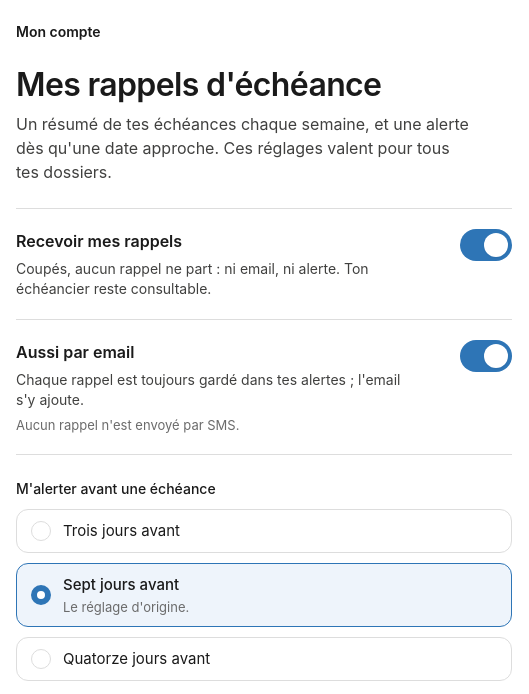
Scenario: Préférences de rappel › enregistre, confirme, et envoie ce qui est affiché
This screenshot has width=529, height=694.
Click the radio button labelled "Quatorze jours avant" at (137, 658), box [16, 637, 512, 681]
(page scrolled)
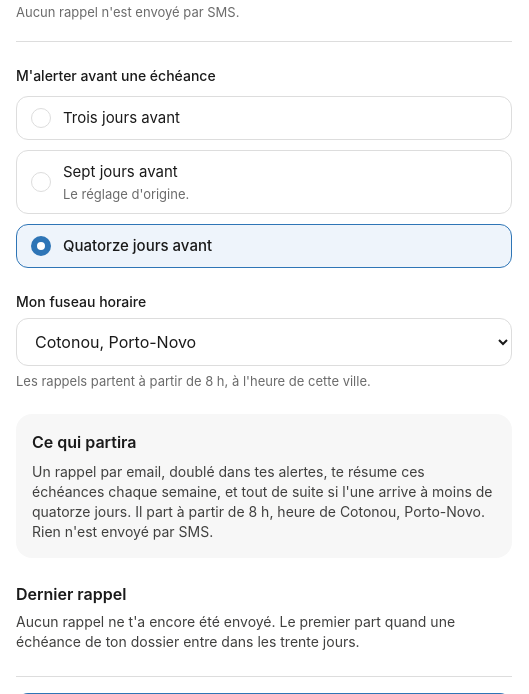
Select "Montréal, Toronto" in the dropdown labelled "Mon fuseau horaire" at (264, 342), box [16, 318, 512, 366]
(page scrolled)
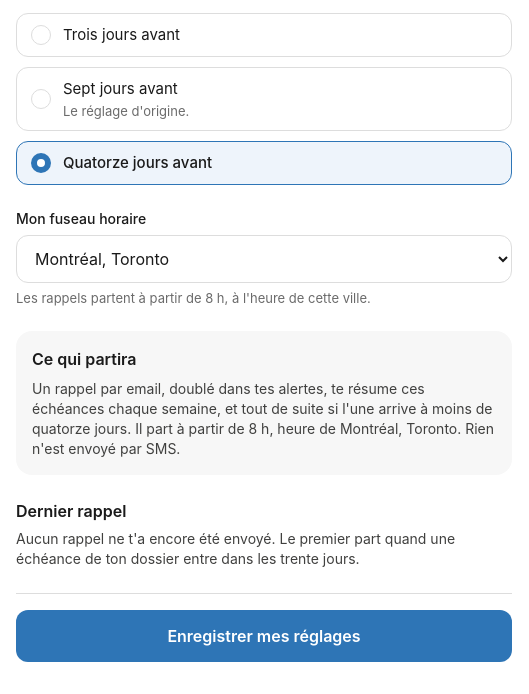
Click the button "Enregistrer mes réglages" at (264, 636), box [16, 610, 512, 662]
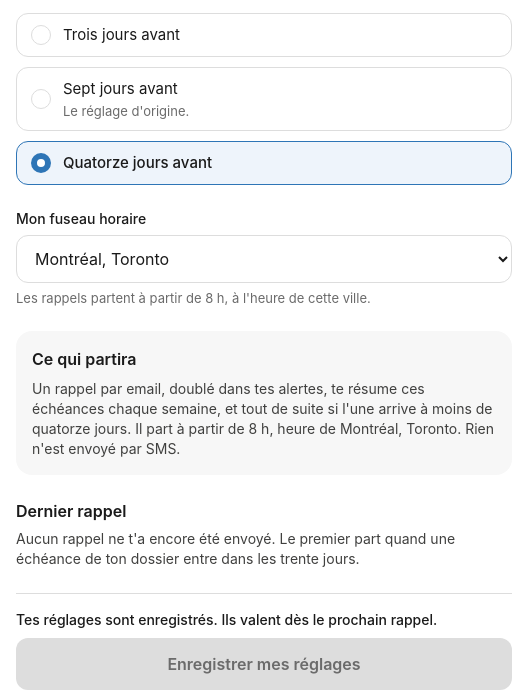
Expected: the text "heure de Montréal, Toronto" is shown, [32, 380, 494, 457]
Expected: the message shows "enregistrés", [16, 611, 437, 628]
